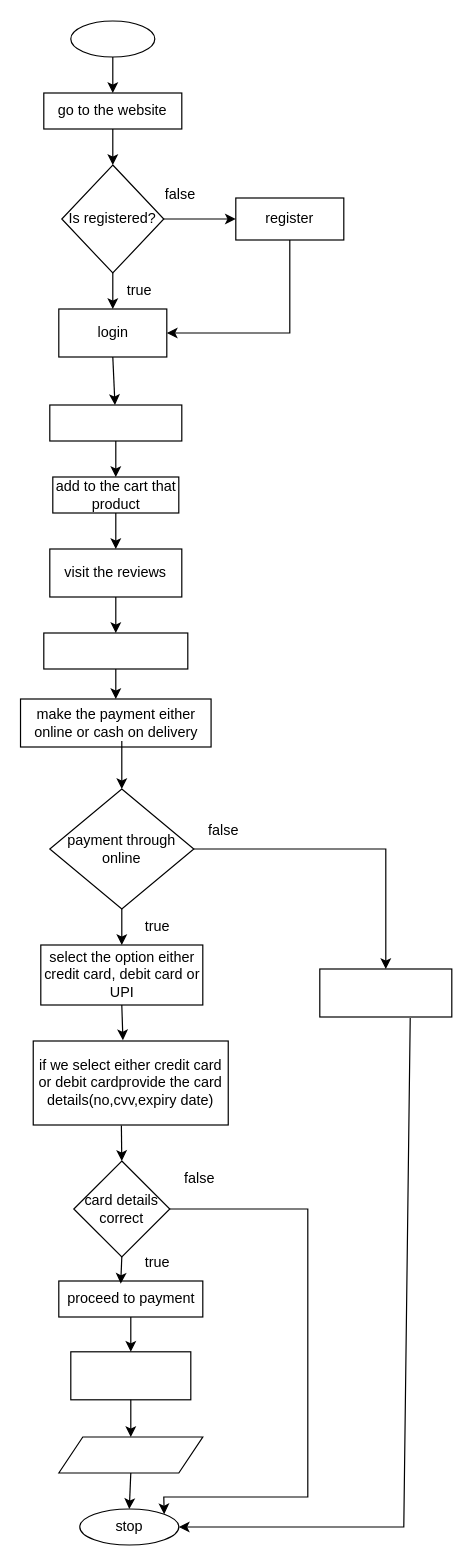
Some shapes in this 474 by 1566 pixel diagram are drawn without their labels. The box of each missing label's shape, as (x1, y1, x2, y2) in pixels:
confirm the order: (70, 1351, 191, 1400)
order successful: (58, 1436, 203, 1473)
provide the shipping details: (43, 632, 188, 669)
search for the product: (49, 404, 182, 441)
start: (70, 20, 155, 57)
we have to pay the amount on product delivery time: (319, 968, 452, 1017)
